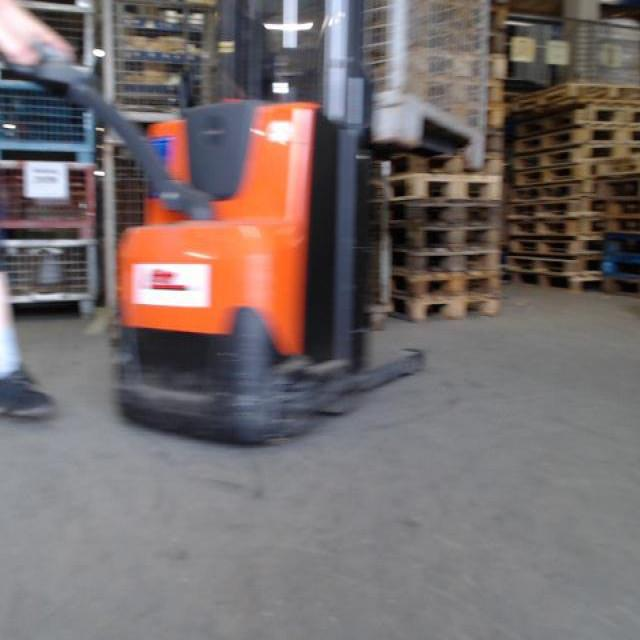pallet: (518, 81, 638, 110), (410, 48, 505, 79), (387, 228, 499, 254), (521, 114, 639, 137), (393, 274, 499, 299), (393, 254, 498, 279), (388, 178, 504, 200), (390, 202, 500, 225), (390, 296, 498, 319), (410, 80, 504, 105), (509, 272, 606, 295), (388, 156, 503, 175), (512, 219, 608, 240), (518, 140, 639, 155), (512, 200, 604, 219), (512, 168, 598, 186), (513, 255, 603, 272), (513, 240, 608, 255), (443, 105, 503, 128), (512, 186, 604, 200), (513, 154, 598, 168), (605, 263, 638, 280), (608, 200, 638, 218), (608, 180, 635, 200), (607, 280, 638, 296), (606, 218, 638, 233), (489, 134, 506, 153)
pallet_truck: (15, 2, 437, 459)
stillage: (279, 1, 499, 174), (105, 2, 243, 128), (86, 129, 172, 329), (1, 235, 98, 321), (2, 2, 100, 86), (2, 158, 102, 238), (1, 76, 99, 156)
